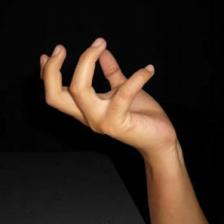five: (35, 34, 185, 154)
